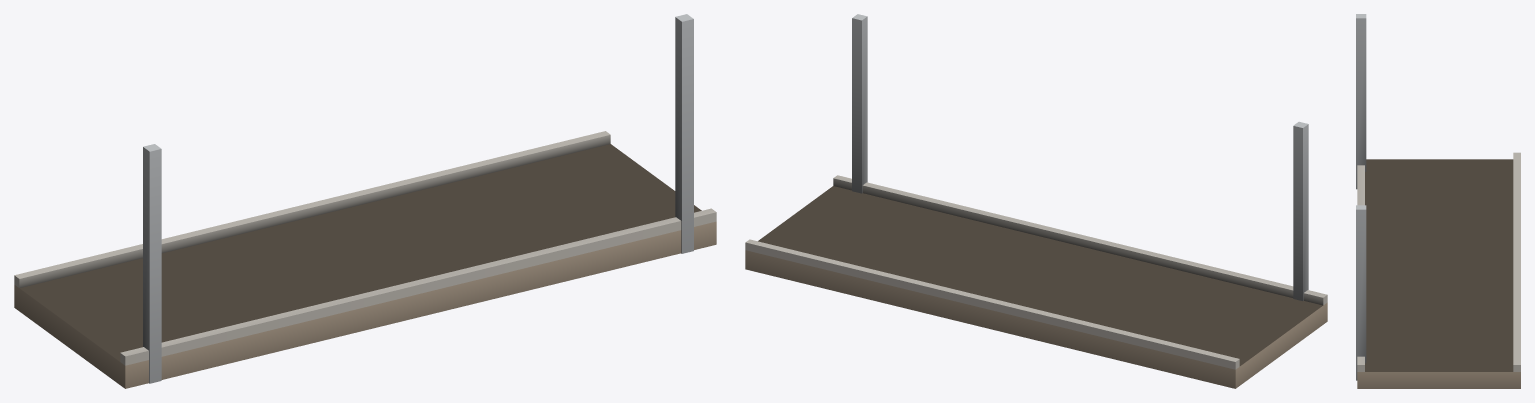
Rendered from pontoon.lod1.glb.
The picture shows the model from 3 angles, left to right: view 1: azimuth 30°, elevation 25°; view 2: azimuth 150°, elevation 25°; view 3: azimuth 270°, elevation 25°; orthographic projection. The views are drawn at different scales.
Parts seen in each view (by area): view 1: props_pontoon.lod1; view 2: props_pontoon.lod1; view 3: props_pontoon.lod1.
Boxes of the visible parts, bbox=[...] form: props_pontoon.lod1: bbox=[14, 14, 716, 388]; props_pontoon.lod1: bbox=[745, 14, 1327, 388]; props_pontoon.lod1: bbox=[1356, 14, 1520, 388].
Bounding box in the file's own units: 8 × 3 × 2.62.
